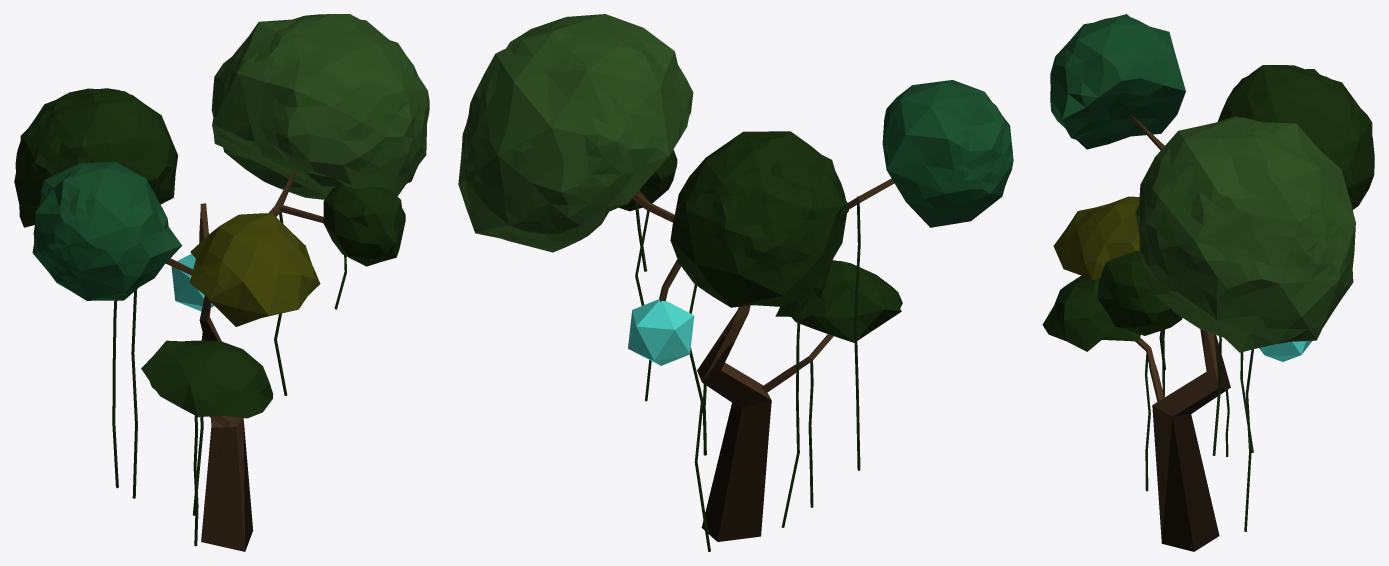
Rendered from Tree_swamp_vinesFBX.fbx.
The picture shows the model from 3 angles, left to right: view 1: azimuth 30°, elevation 25°; view 2: azimuth 150°, elevation 25°; view 3: azimuth 270°, elevation 25°; orthographic projection. The views are drawn at different scales.
Parts seen in each view (by area): view 1: Cube; view 2: Cube; view 3: Cube.
Part boxes in pixels (x1=…): Cube: x1=14, y1=14, x2=429, y2=551; Cube: x1=458, y1=14, x2=1013, y2=551; Cube: x1=1042, y1=14, x2=1374, y2=551.
Bounding box in the file's own units: 711 × 733 × 469.
